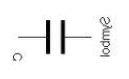Capacitor: (27, 15, 77, 63)
